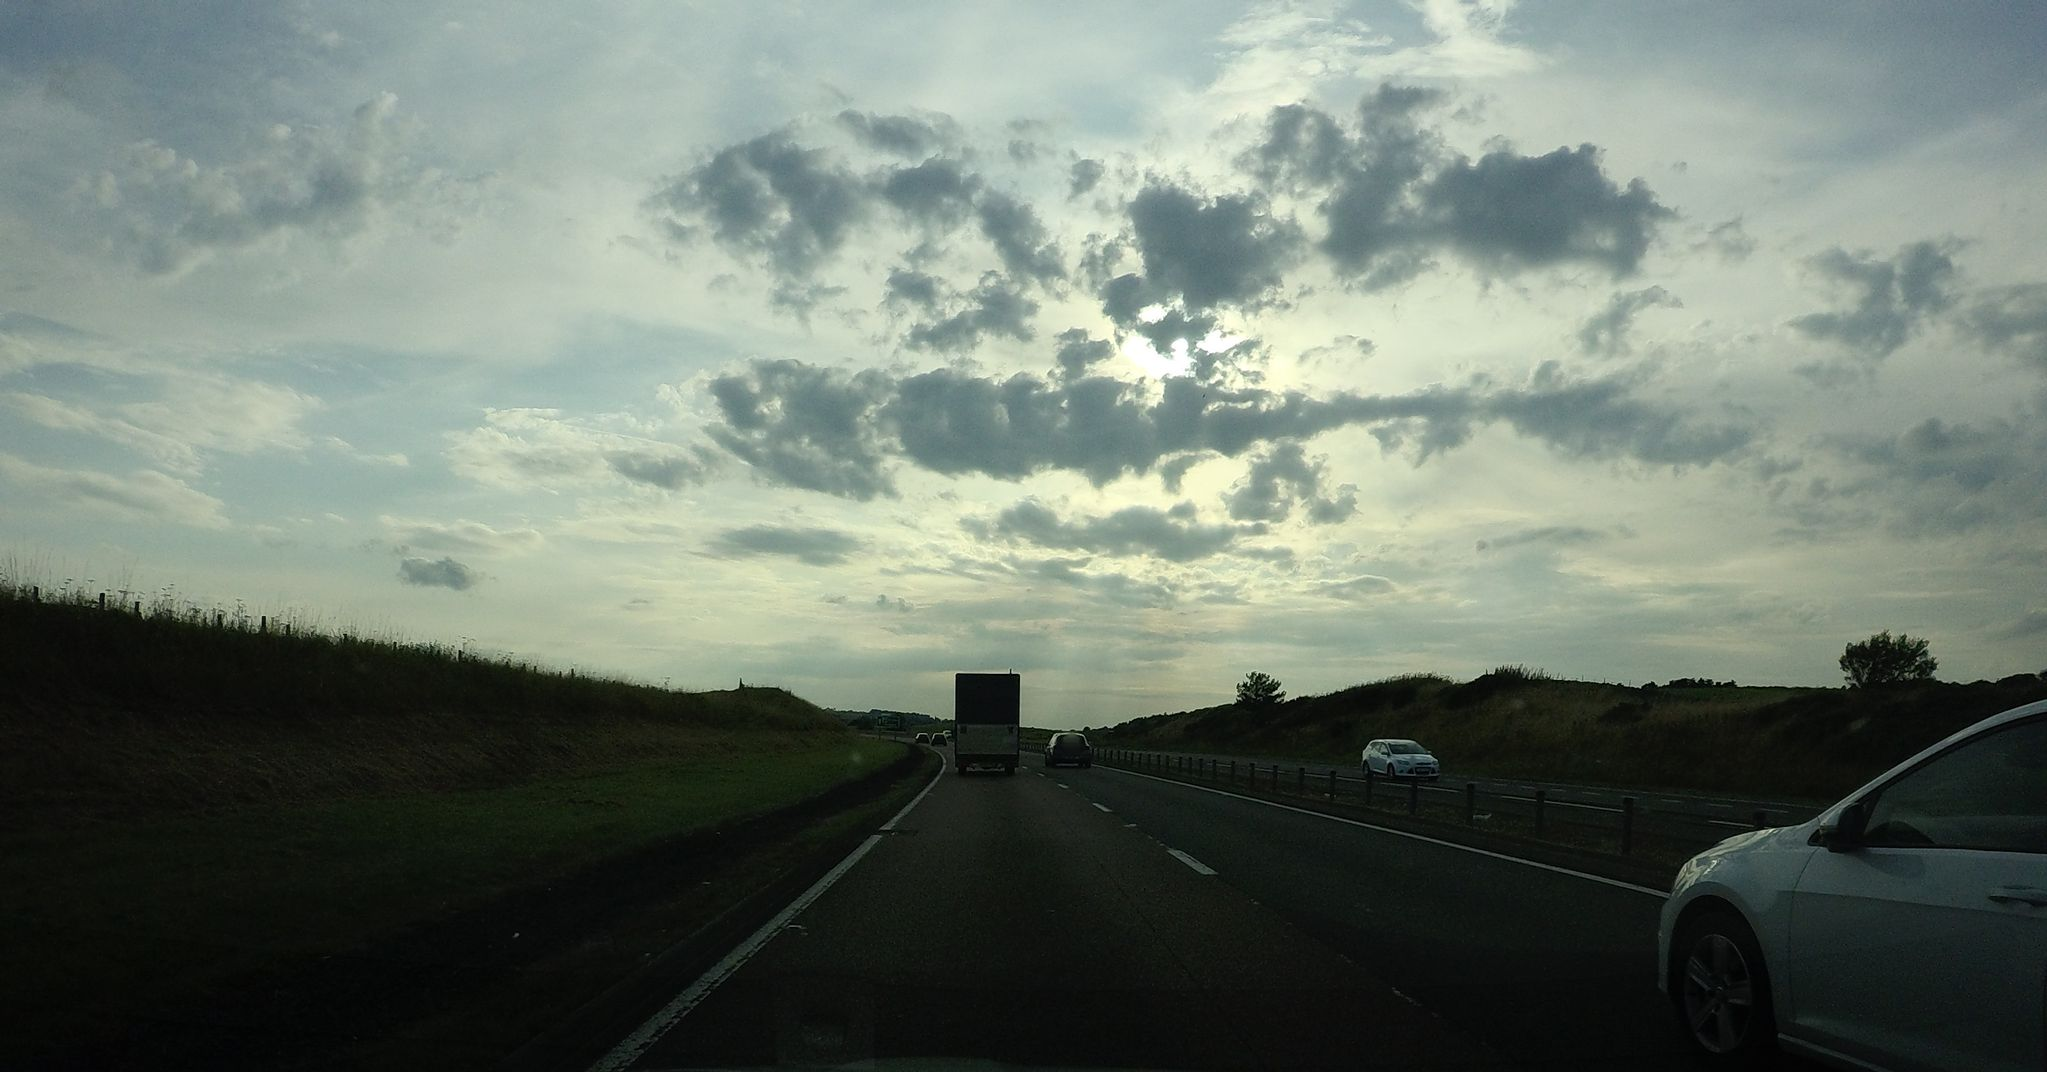car: (1657, 694, 2047, 1071), (1362, 738, 1440, 781), (1044, 732, 1093, 767)
truck: (948, 669, 1018, 774)
